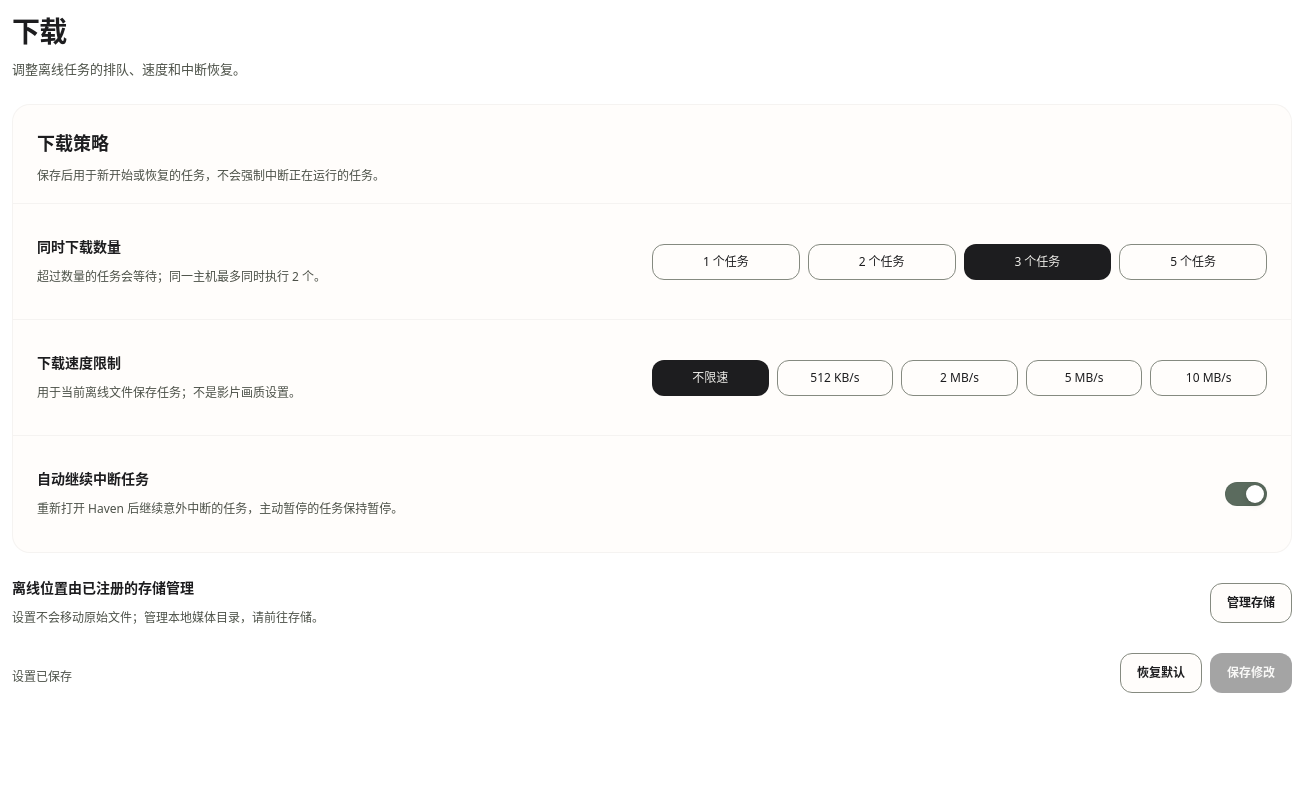
Test: 下载设置分区走真实的 Settings 表单 › 保存只提交 downloads 分区，并带上快照里读到的 revision
Expected: the text "设置已保存" is shown, [12, 666, 72, 688]
Click the button "2 个任务" at point(882, 262), box [808, 244, 956, 280]
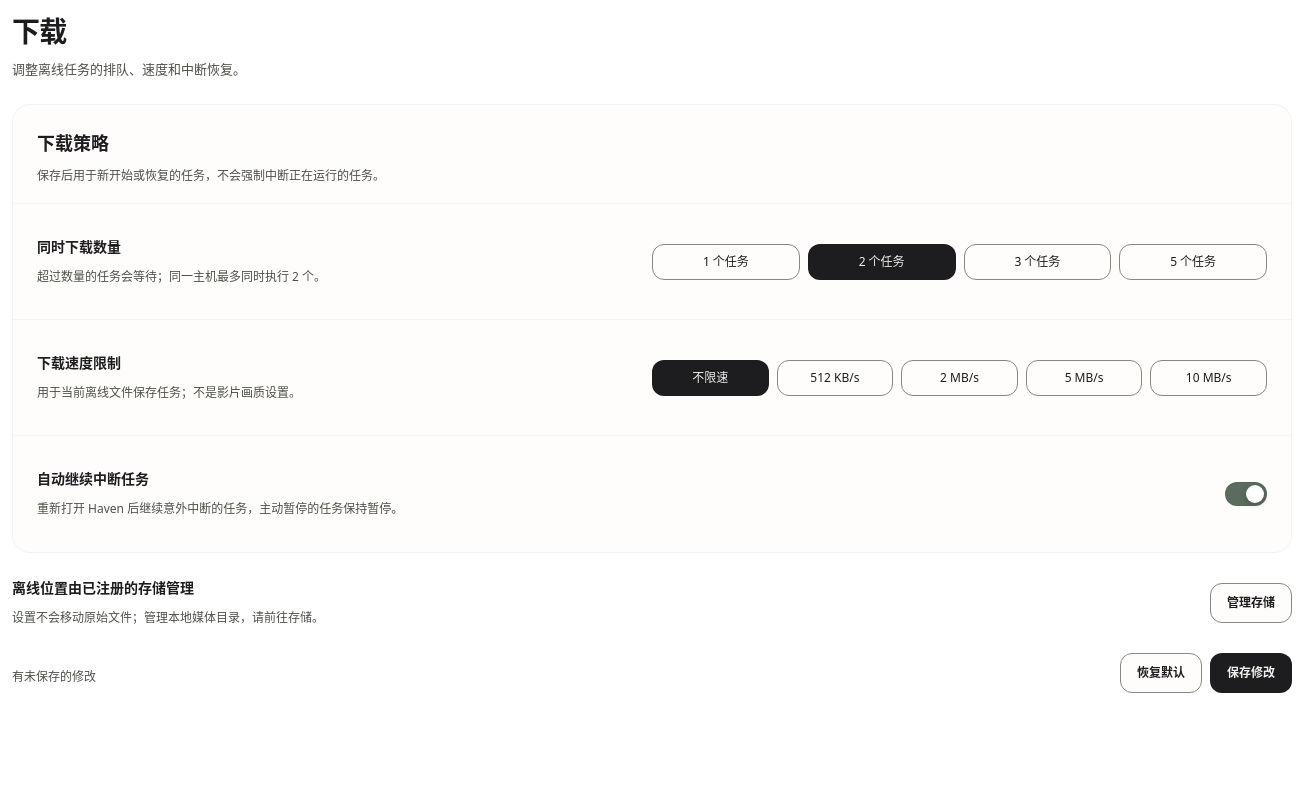
Now the text "有未保存的修改" is shown, box [12, 666, 96, 688]
Click the button "保存修改" at point(1251, 673), box [1210, 653, 1292, 693]
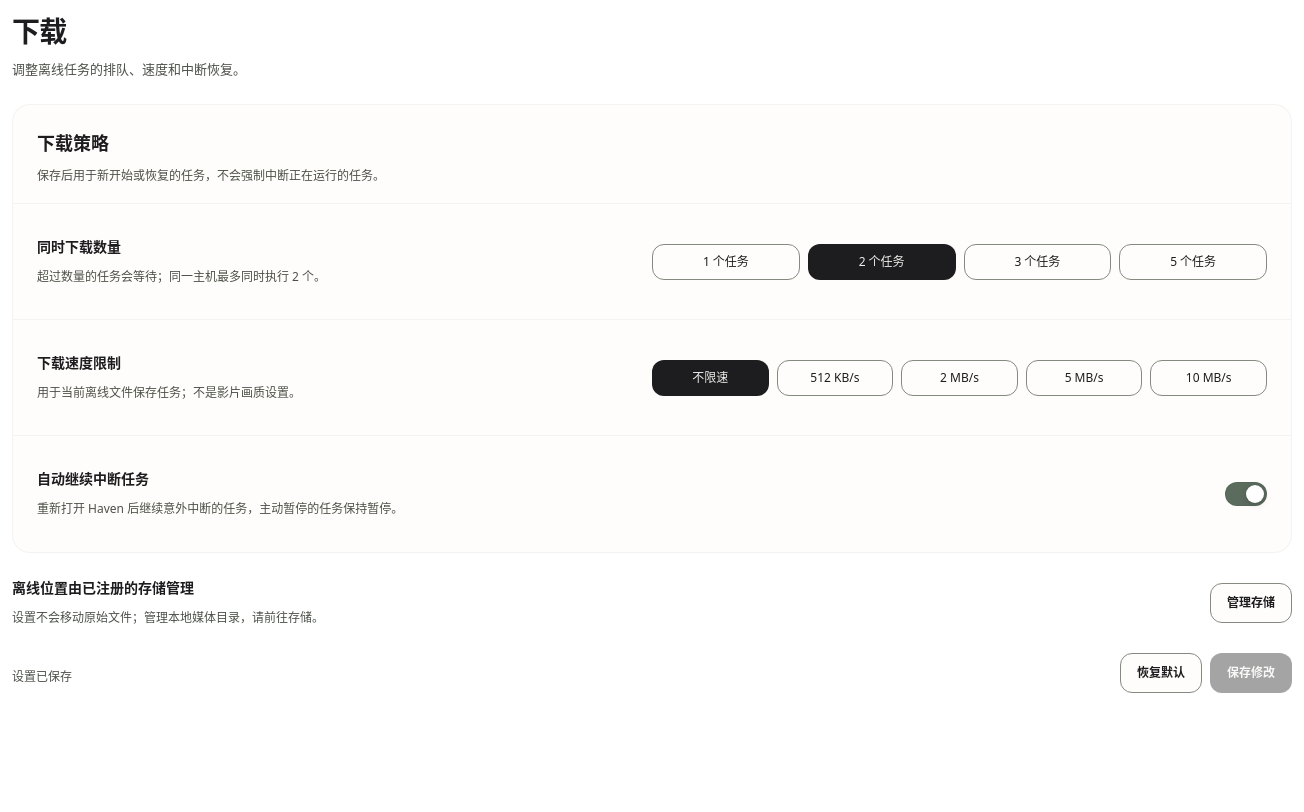
Now the text "设置已保存" is shown, box [12, 666, 72, 688]
